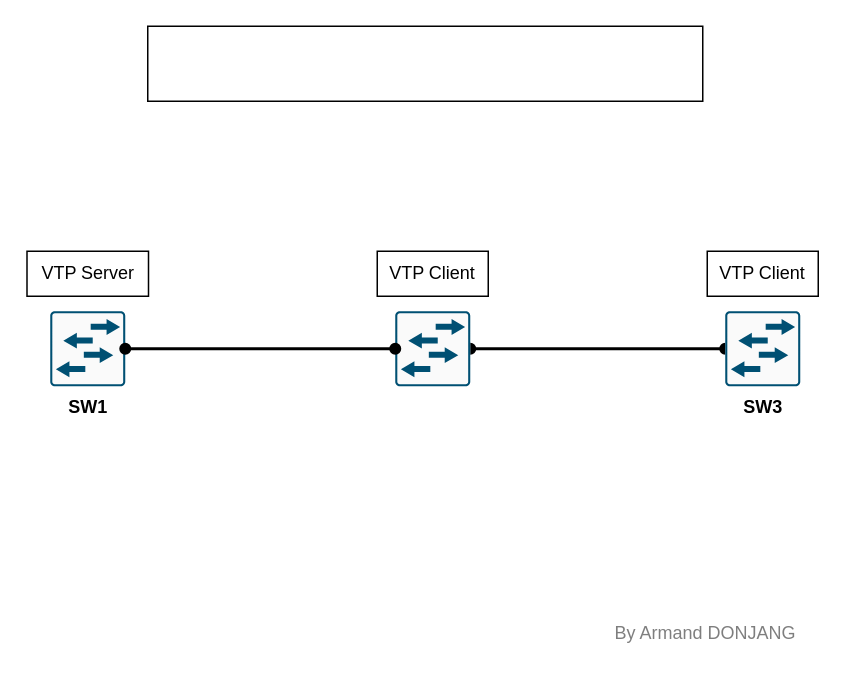
This 845x683 diagram has some shape labels left out. Here are the shapes that lost their labels. From the top down, the centre of each, then its label:
At [424,63]: "VTP (VLAN TRUNKING PROTOCOL)".
At [432,348]: "SW2".
